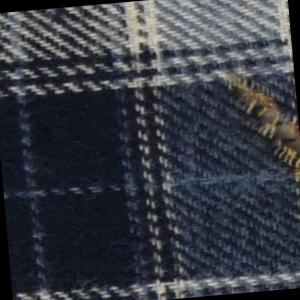Damage: (214, 57, 300, 198)
